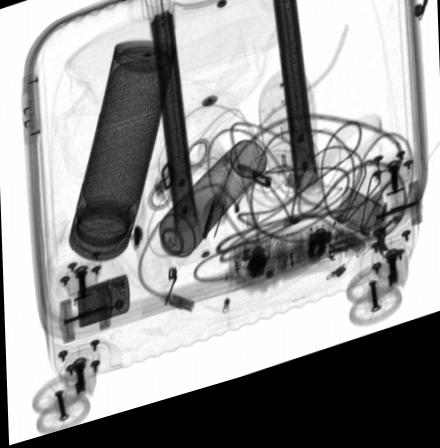Lighter: (76, 280, 128, 331)
Sprayer: (132, 152, 264, 299)
